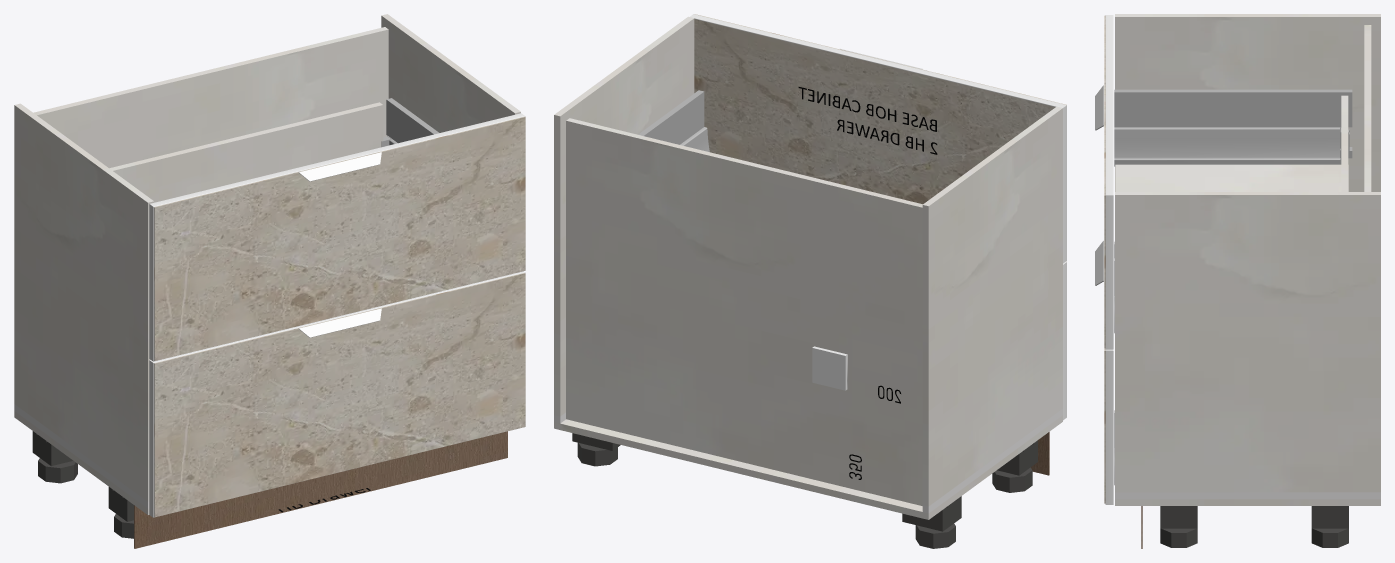
The model's file is BHC2EH_EH (H720xW900xD560).glb.
The picture shows the model from 3 angles, left to right: view 1: azimuth 30°, elevation 25°; view 2: azimuth 150°, elevation 25°; view 3: azimuth 270°, elevation 25°; orthographic projection.
Size of what is drawn, in the model's own units: 0.9 by 0.82 by 0.6.
11 materials, 3 textured.
